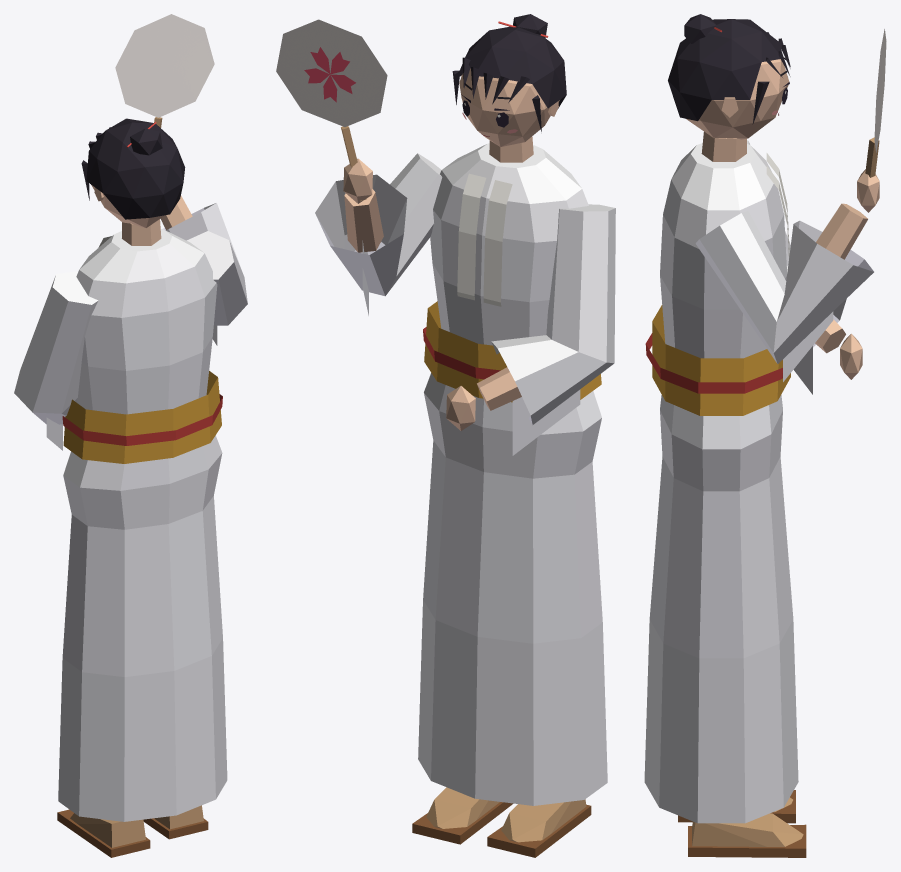
The model's file is spectator_h.glb.
3 views of the same model, side by side, from view 1: azimuth 30°, elevation 25°; view 2: azimuth 150°, elevation 25°; view 3: azimuth 270°, elevation 25° (orthographic). The views are drawn at different scales.
Visible parts, largest first — view 1: spectator_h; view 2: spectator_h; view 3: spectator_h.
Boxes of the visible parts, bbox=[...] form: spectator_h: bbox=[14, 14, 247, 857]; spectator_h: bbox=[276, 14, 615, 857]; spectator_h: bbox=[644, 14, 886, 857].
Size of the model in its own units: 0.6353 by 1.81 by 0.4713.
